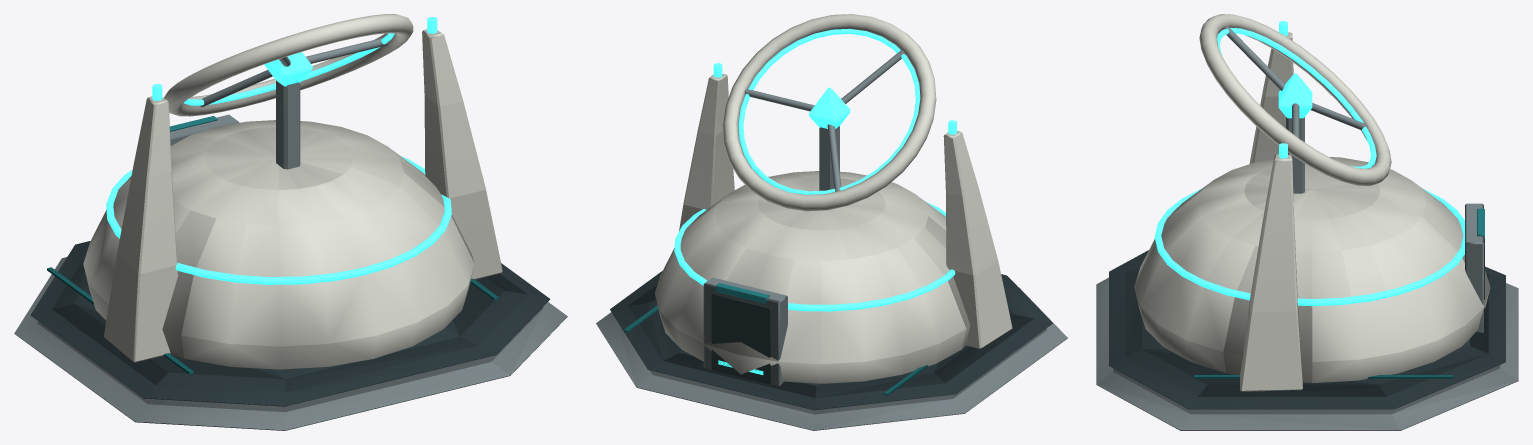
The model's file is SignalLab.glb.
3 renders of one model, left to right at view 1: azimuth 30°, elevation 25°; view 2: azimuth 150°, elevation 25°; view 3: azimuth 270°, elevation 25°, orthographic. The views are drawn at different scales.
Visible parts, largest first — view 1: export_SignalLab_Foundation, export_SignalLab_SensorRing; view 2: export_SignalLab_Foundation, export_SignalLab_SensorRing; view 3: export_SignalLab_Foundation, export_SignalLab_SensorRing.
Boxes of the visible parts, <box> form: export_SignalLab_Foundation: <box>14,17,567,430</box>; export_SignalLab_SensorRing: <box>164,14,413,116</box>; export_SignalLab_Foundation: <box>596,63,1067,430</box>; export_SignalLab_SensorRing: <box>723,14,936,211</box>; export_SignalLab_Foundation: <box>1096,21,1518,430</box>; export_SignalLab_SensorRing: <box>1199,14,1391,185</box>.
Size of the model in its own units: 5.66 by 4.19 by 5.27.
